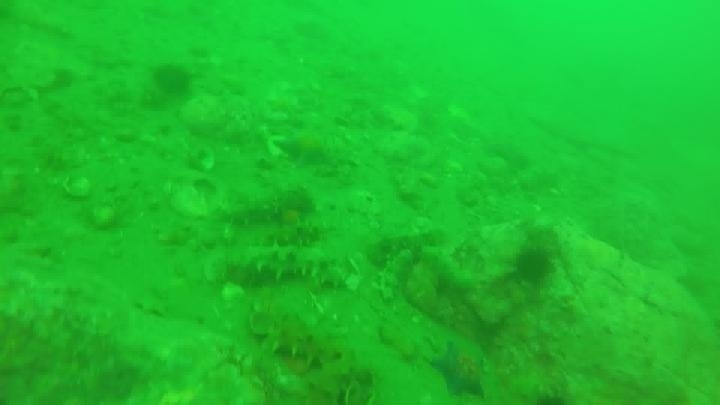echinus: (512, 246, 555, 287), (151, 62, 194, 99)
holothurian: (256, 317, 366, 375), (224, 242, 350, 292), (217, 185, 315, 229), (365, 223, 444, 268), (245, 221, 325, 252), (373, 247, 414, 304)
starfish: (427, 338, 490, 400), (275, 127, 333, 168)
